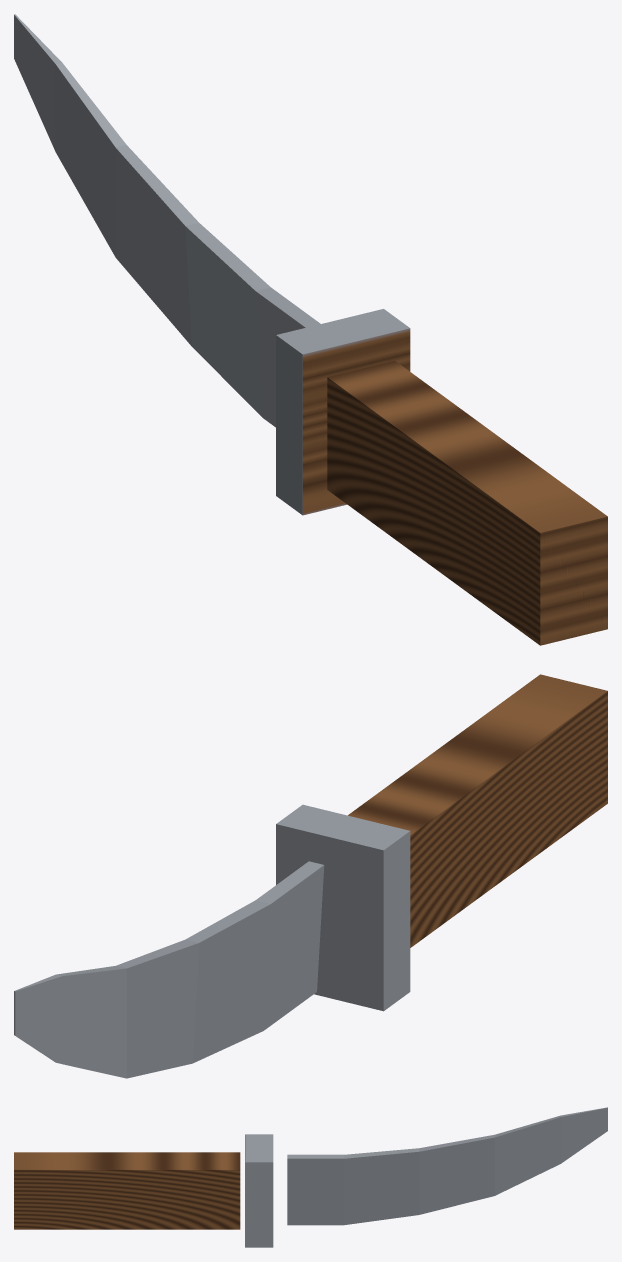
File: knife.glb
3 views of the same model, one above another, from view 1: azimuth 30°, elevation 25°; view 2: azimuth 150°, elevation 25°; view 3: azimuth 270°, elevation 25° (orthographic). The views are drawn at different scales.
Parts seen in each view (by area): view 1: Curved_Knife; view 2: Curved_Knife; view 3: Curved_Knife.
Boxes of the visible parts, bbox=[...] form: Curved_Knife: bbox=[14, 14, 607, 645]; Curved_Knife: bbox=[14, 674, 607, 1078]; Curved_Knife: bbox=[14, 1107, 607, 1247].
Size of the model in its own units: 0.35 by 0.7384 by 3.15.
Materials: 1 (1 with a texture image).
